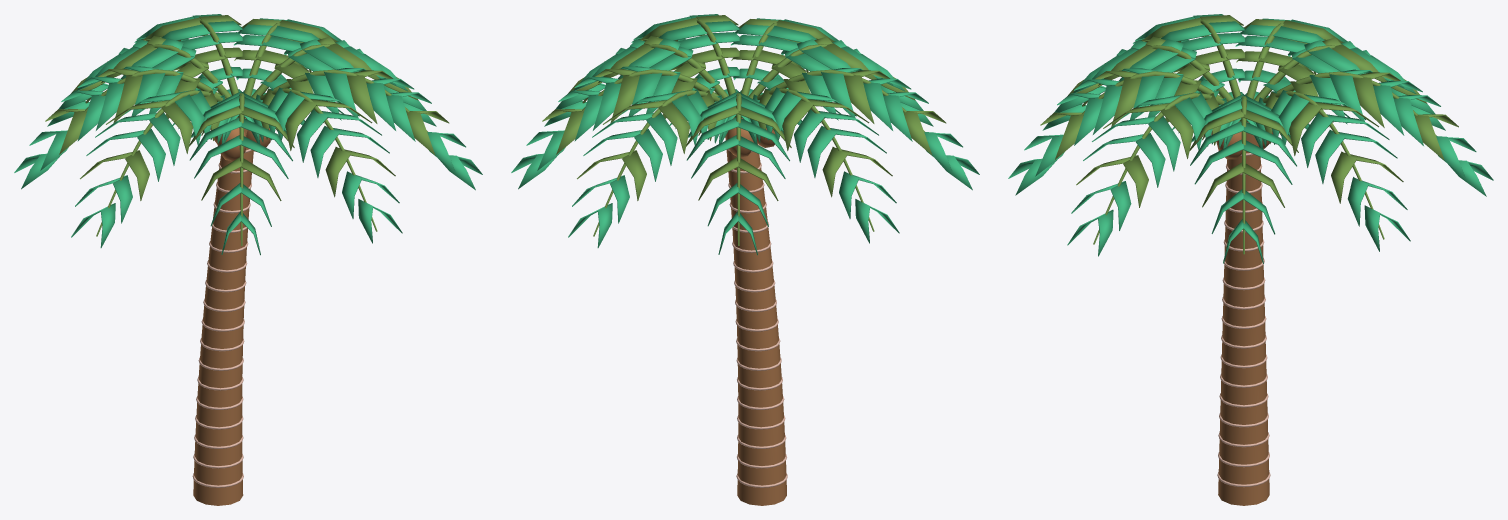
File: palm.glb
The picture shows the model from 3 angles, left to right: view 1: azimuth 30°, elevation 25°; view 2: azimuth 150°, elevation 25°; view 3: azimuth 270°, elevation 25°; orthographic projection. The views are drawn at different scales.
Parts seen in each view (by area): view 1: PalmLeaflet, FrondSpine, Coconut, BarkScar; view 2: PalmLeaflet, FrondSpine, Coconut, BarkScar; view 3: PalmLeaflet, FrondSpine, Coconut, BarkScar.
Boxes of the visible parts, x1=… form: PalmLeaflet: x1=14, y1=14, x2=482, y2=255; FrondSpine: x1=45, y1=15, x2=449, y2=245; Coconut: x1=193, y1=117, x2=270, y2=505; BarkScar: x1=192, y1=149, x2=252, y2=487; PalmLeaflet: x1=511, y1=14, x2=979, y2=255; FrondSpine: x1=542, y1=15, x2=946, y2=245; Coconut: x1=725, y1=118, x2=786, y2=505; BarkScar: x1=727, y1=144, x2=787, y2=487; PalmLeaflet: x1=1008, y1=14, x2=1493, y2=263; FrondSpine: x1=1040, y1=15, x2=1458, y2=254; Coconut: x1=1211, y1=121, x2=1273, y2=505; BarkScar: x1=1217, y1=153, x2=1270, y2=487.
Bounding box in the file's own units: 4.13 × 4.34 × 4.32.
